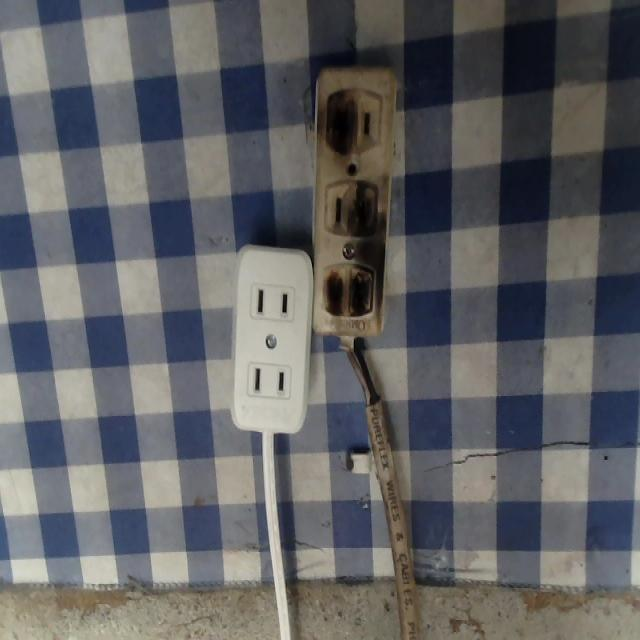-: (323, 258, 379, 322), (323, 84, 360, 153), (349, 180, 383, 240)
